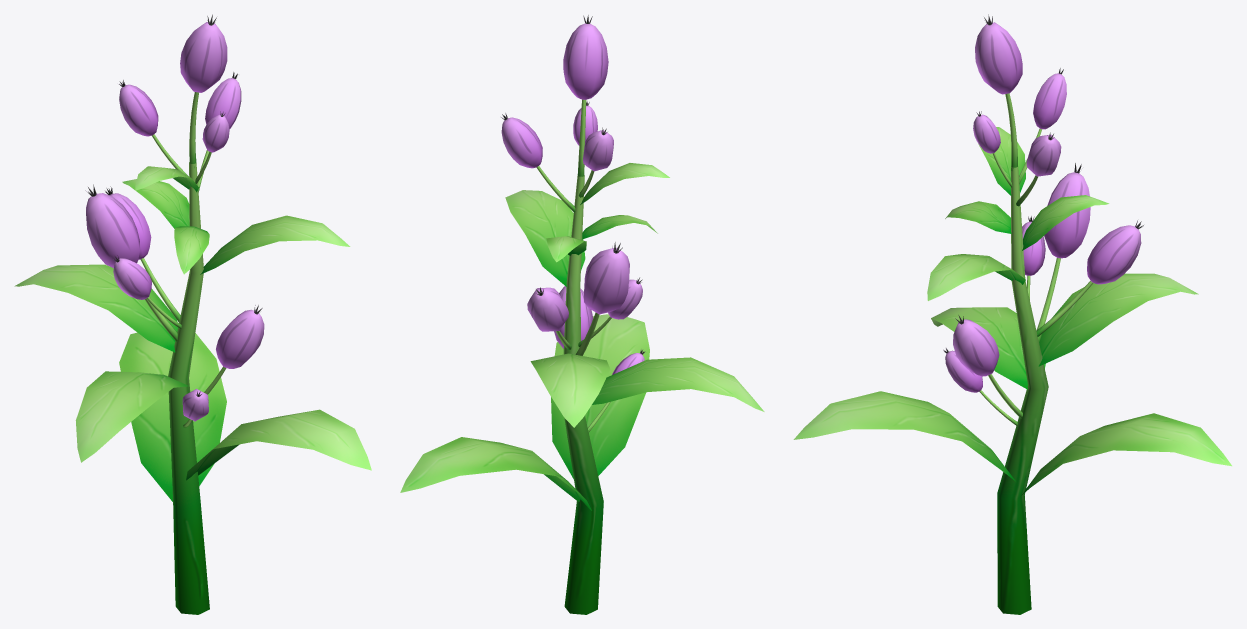
File: flower1.glb
3 renders of one model, left to right at view 1: azimuth 30°, elevation 25°; view 2: azimuth 150°, elevation 25°; view 3: azimuth 270°, elevation 25°, orthographic. The views are drawn at different scales.
Visible parts, largest first — view 1: Circle.001; view 2: Circle.001; view 3: Circle.001.
Part boxes in pixels (x1,y1,x2,y2): Circle.001: [14, 14, 371, 614]; Circle.001: [400, 15, 764, 614]; Circle.001: [793, 14, 1231, 614].
Bounding box in the file's own units: 0.7311 × 1.58 × 1.06.
Materials: 1 (1 with a texture image).
